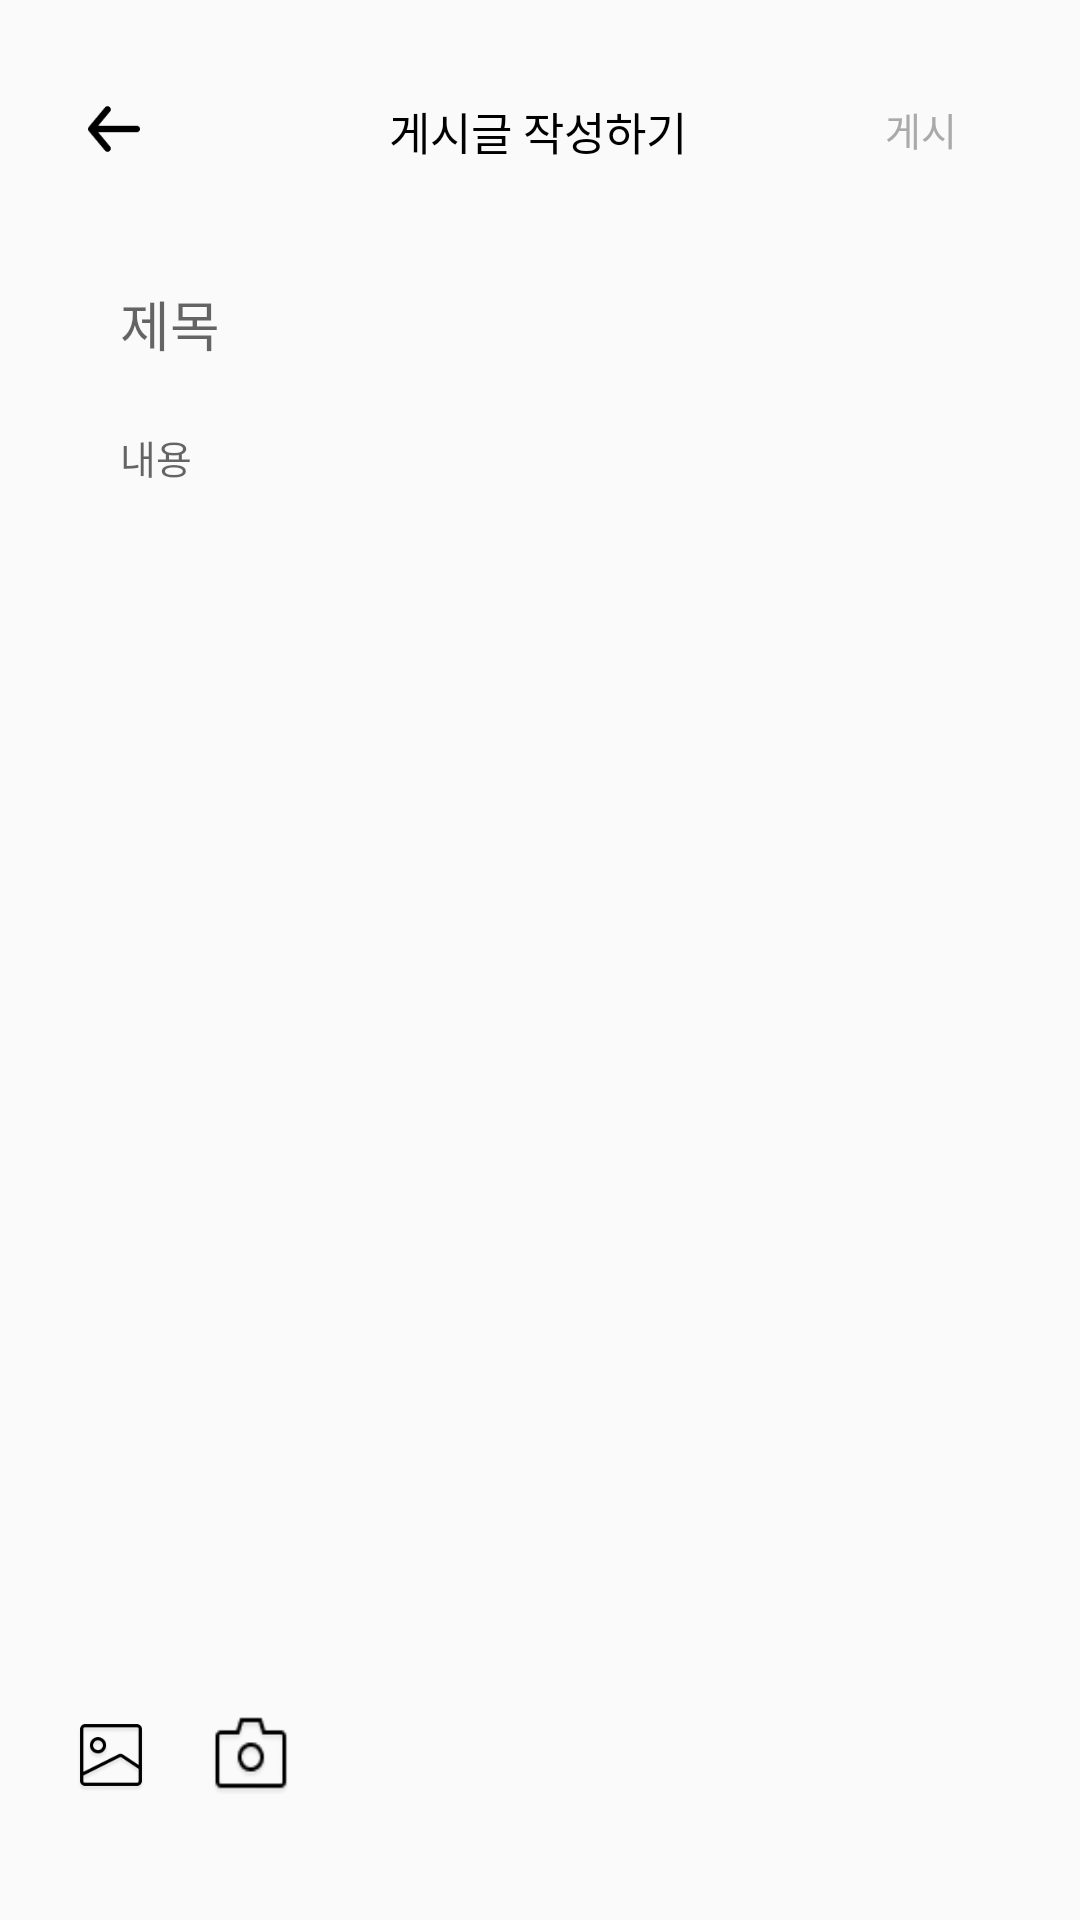

Screen size 1080 x 1920. Icon name, then its box in pixels as (x1, y1, x2, y2):
makegallery back: (88, 106, 140, 152)
makegallery camera: (215, 1717, 287, 1789)
makegallery gallery: (80, 1724, 142, 1786)
